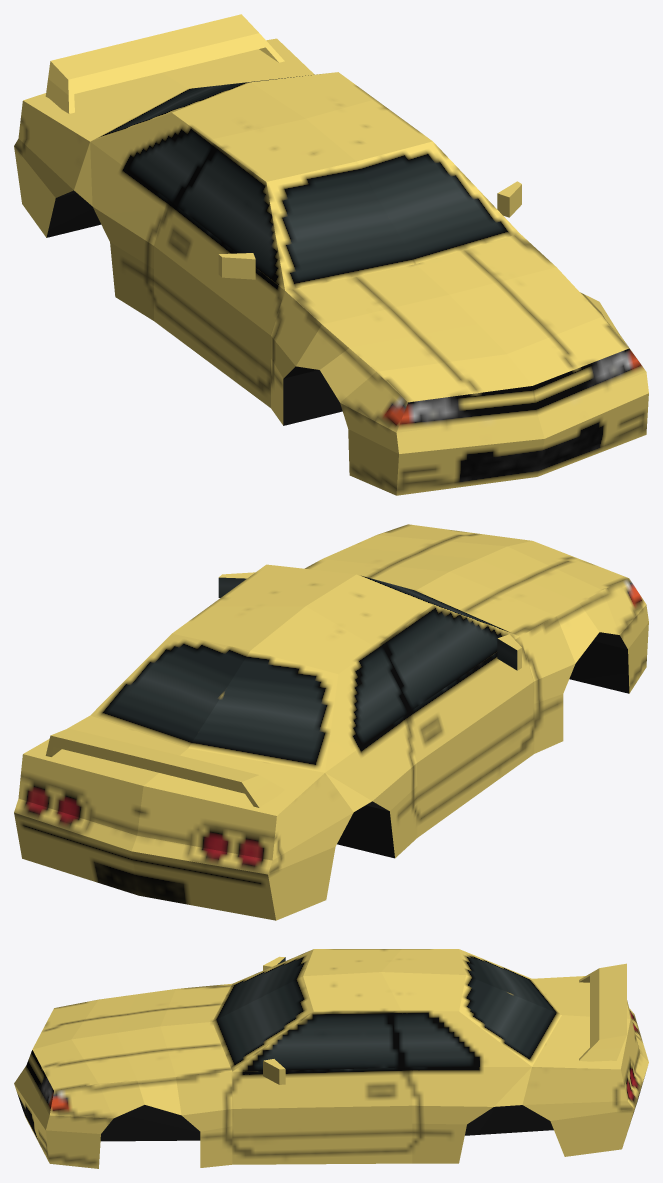
Rendered from skyline_r32.obj.
3 views of the same model, one above another, from view 1: azimuth 30°, elevation 25°; view 2: azimuth 150°, elevation 25°; view 3: azimuth 270°, elevation 25° (orthographic). The views are drawn at different scales.
Visible parts, largest first — view 1: skyline_r32; view 2: skyline_r32; view 3: skyline_r32.
Part boxes in pixels (x1=…): skyline_r32: x1=14, y1=14, x2=648, y2=495; skyline_r32: x1=14, y1=524, x2=648, y2=920; skyline_r32: x1=14, y1=949, x2=648, y2=1168.
Bounding box in the file's own units: 1.93 × 1.16 × 4.61.
1 material, 1 textured.
